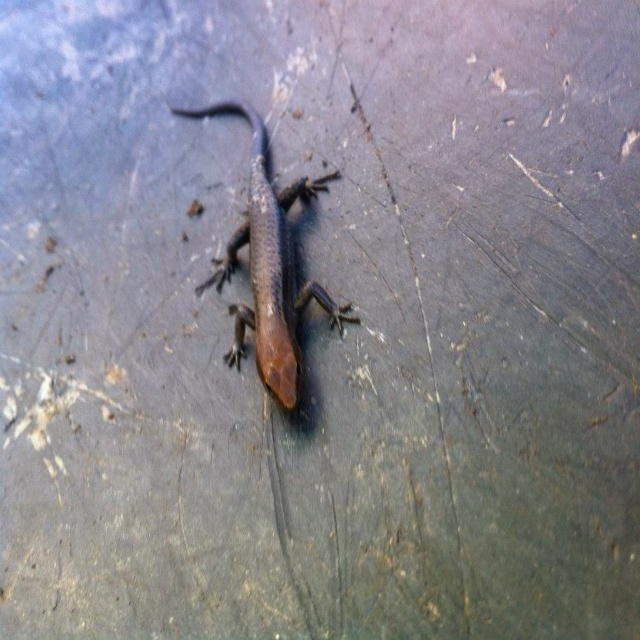Lizard: (175, 91, 363, 447)
